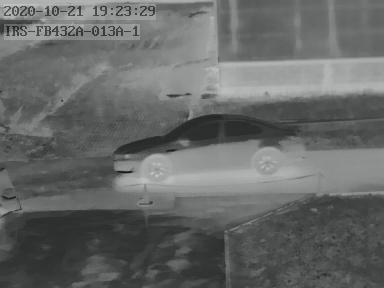vehicle: (113, 112, 302, 179)
